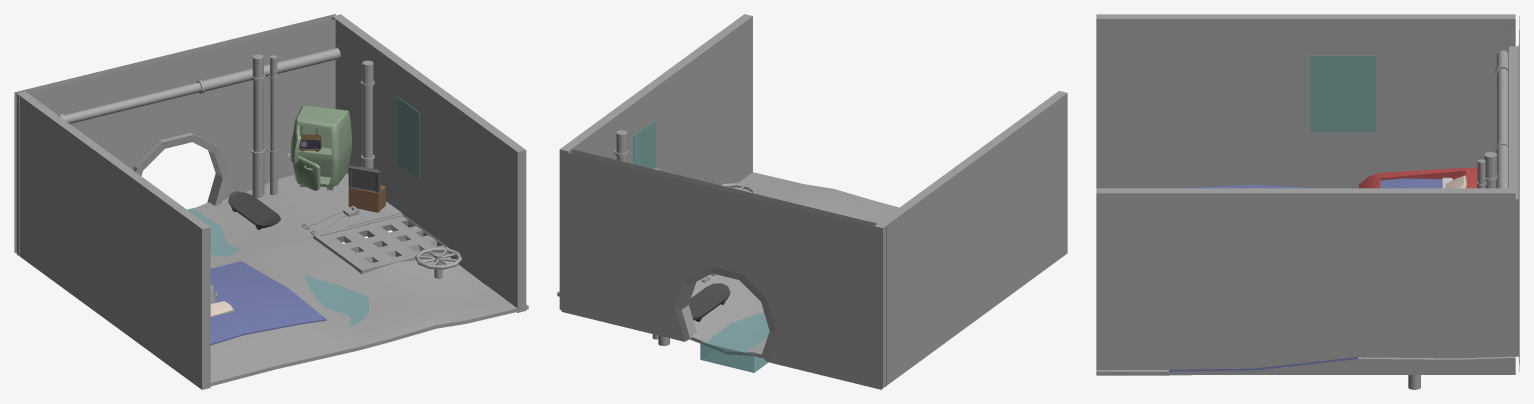
Rendered from Johnny's House.fbx.
3 renders of one model, left to right at view 1: azimuth 30°, elevation 25°; view 2: azimuth 150°, elevation 25°; view 3: azimuth 270°, elevation 25°, orthographic. The views are drawn at different scales.
Visible parts, largest first — view 1: polySurface4, polySurface3, polySurface2, polySurface1, polySurface5, pCube16, pasted__polySurface12, pasted__pCylinder111, pasted__pCylinder109, pCube17, pCube15, pasted__pCylinder110 (+6 smaller); view 2: polySurface1, polySurface4, polySurface2, polySurface3, pCube14, pCylinder10, pCube17; view 3: polySurface2, polySurface4, pCube18, polySurface1, polySurface3, pasted__pasted__polySurface3, pasted__pCylinder111, polySurface5, pasted__pCylinder109.
Part boxes in pixels (bbox=[...]): polySurface4: bbox=[16, 91, 210, 389]; polySurface3: bbox=[189, 173, 528, 386]; polySurface2: bbox=[332, 14, 526, 312]; polySurface1: bbox=[14, 14, 335, 256]; polySurface5: bbox=[210, 261, 326, 345]; pCube16: bbox=[313, 213, 449, 274]; pasted__polySurface12: bbox=[287, 105, 351, 190]; pasted__pCylinder111: bbox=[58, 47, 340, 123]; pasted__pCylinder109: bbox=[251, 54, 265, 197]; pCube17: bbox=[397, 96, 419, 179]; pCube15: bbox=[305, 275, 368, 325]; pasted__pCylinder110: bbox=[360, 60, 374, 168]; polySurface1: bbox=[561, 149, 886, 389]; polySurface4: bbox=[874, 91, 1067, 388]; polySurface2: bbox=[559, 14, 752, 309]; polySurface3: bbox=[557, 172, 899, 358]; pCube14: bbox=[700, 312, 769, 372]; pCylinder10: bbox=[689, 283, 730, 321]; pCube17: bbox=[633, 120, 655, 168]; polySurface2: bbox=[1096, 188, 1515, 374]; polySurface4: bbox=[1096, 14, 1515, 188]; pCube18: bbox=[1310, 55, 1375, 131]; polySurface1: bbox=[1508, 16, 1519, 371]; polySurface3: bbox=[1096, 356, 1515, 375]; pasted__pasted__polySurface3: bbox=[1359, 164, 1478, 188]; pasted__pCylinder111: bbox=[1495, 50, 1508, 188]; polySurface5: bbox=[1169, 184, 1357, 372]; pasted__pCylinder109: bbox=[1484, 152, 1497, 188].
Size of the model in its own units: 17.41 by 9.15 by 17.23.
